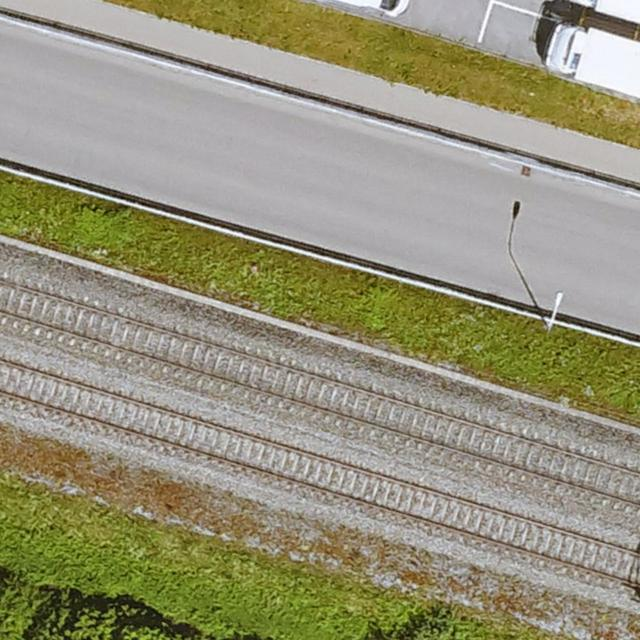tree: (24, 602, 196, 640), (390, 615, 491, 640)
